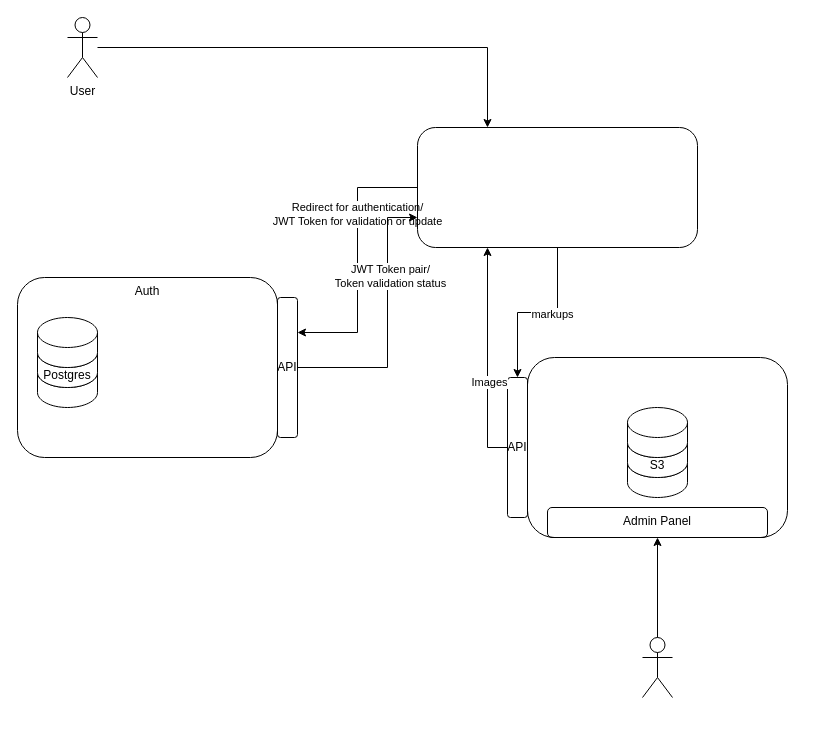
This 815x736 diagram has some shape labels left out. The box of each missing label's shape, as (x1, y1, x2, y2) in pixels:
Admin: (642, 636, 672, 698)
Bot: (416, 126, 698, 248)
DBaaS: (526, 356, 788, 538)
